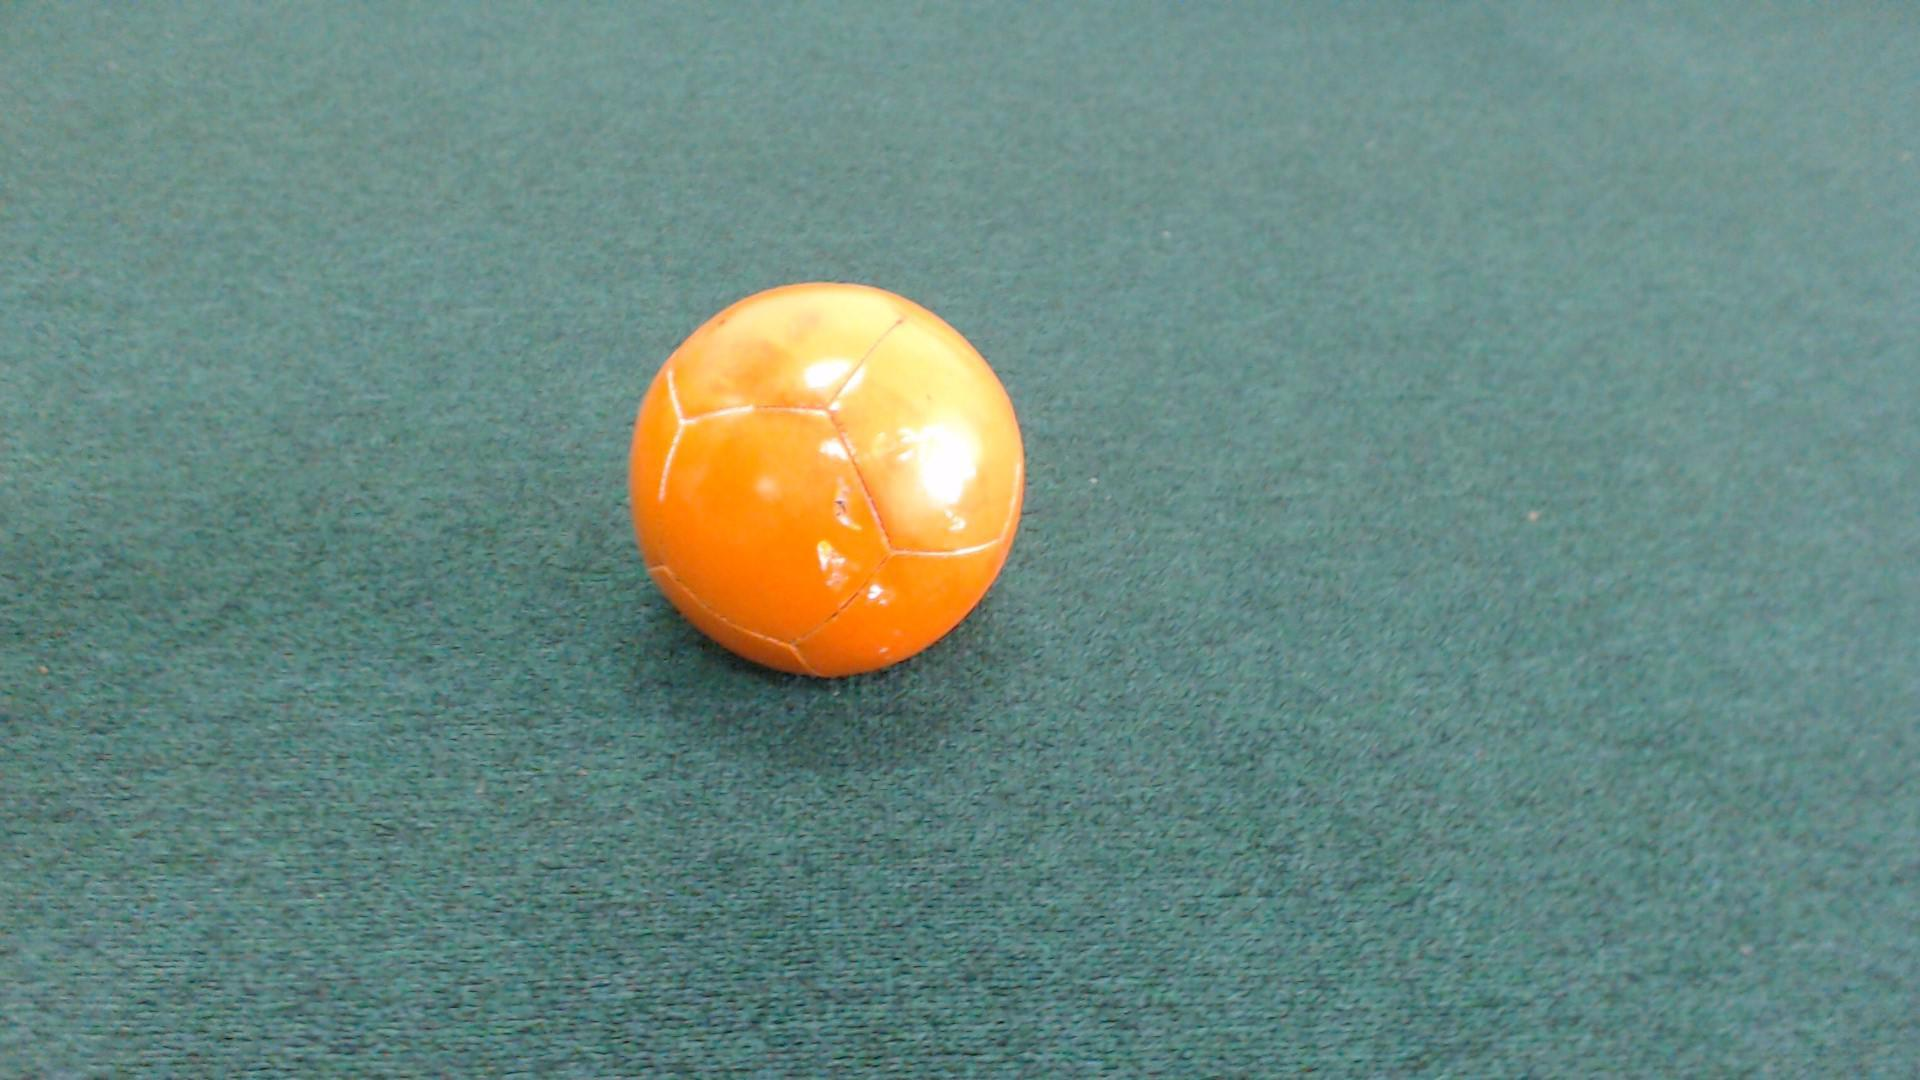bola: (589, 251, 1054, 723)
